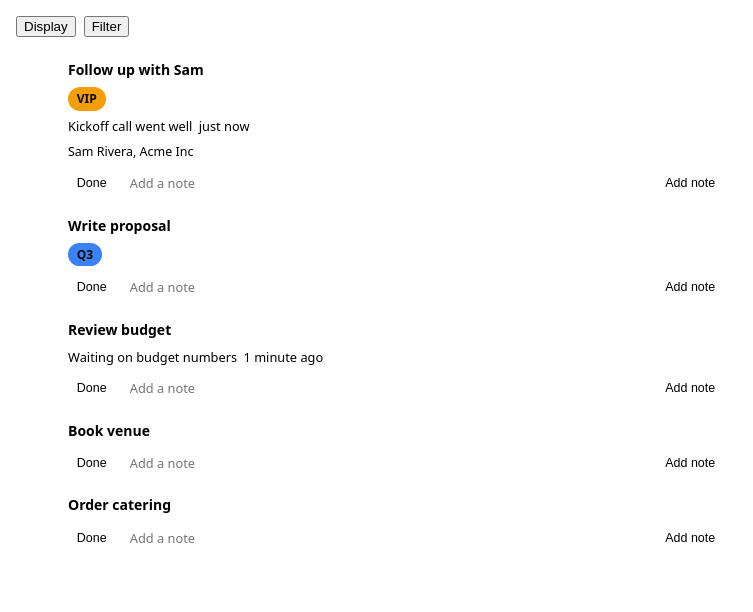
Scenario: UpNextPage — Story 2: quick actions › a non-ok placement response shows a dismissible inline error and still refetches (concurrent-change edge case, FR-014)
The image size is (753, 612).
Click the button with test id "up-next-quick-done" below "Write proposal": x=92, y=288 [68, 277, 115, 298]
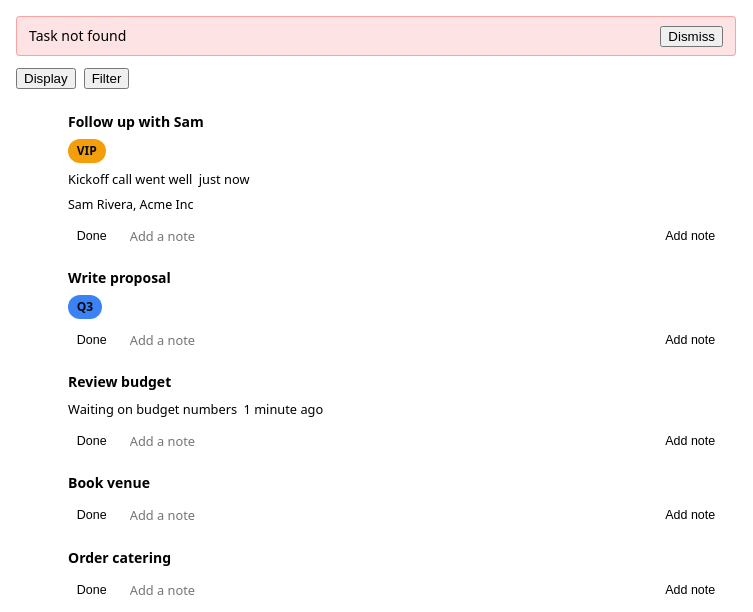
Expected: the element with test id "up-next-error-banner" shows "Task not found", [29, 26, 126, 45]
Click the button "Dismiss": x=692, y=36 [660, 26, 723, 47]
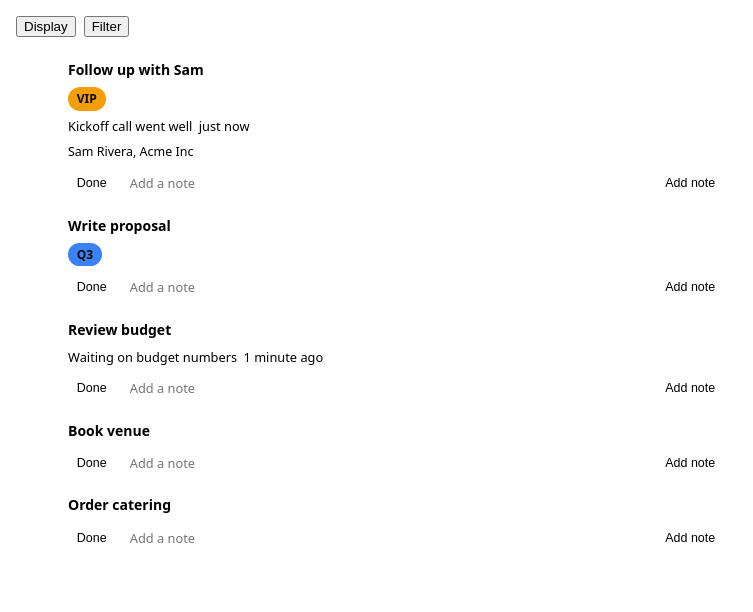
Expected: the element with test id "up-next-error-banner" is gone
